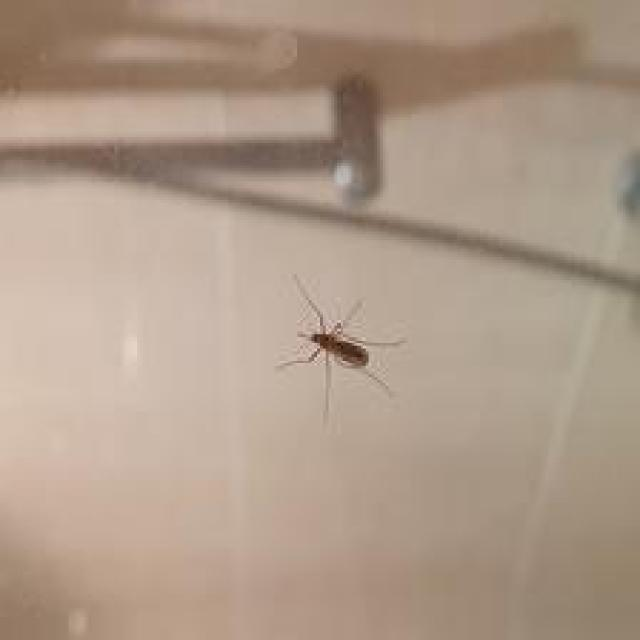Culex: (274, 273, 406, 421)
